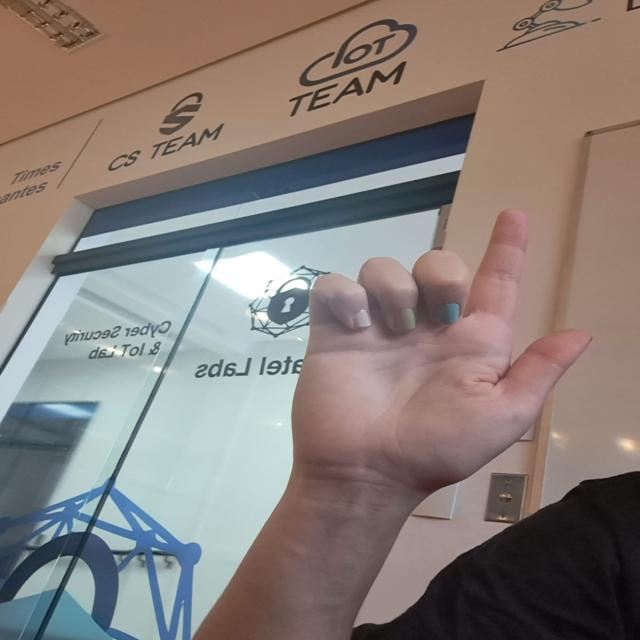G: (261, 178, 600, 518)
